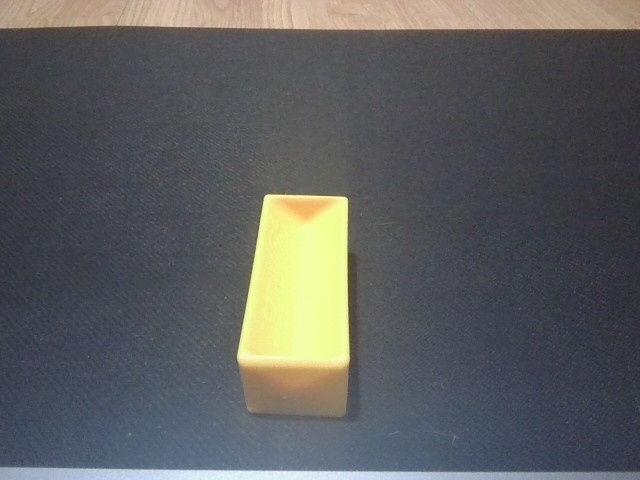YellowSample: (235, 190, 359, 420)
